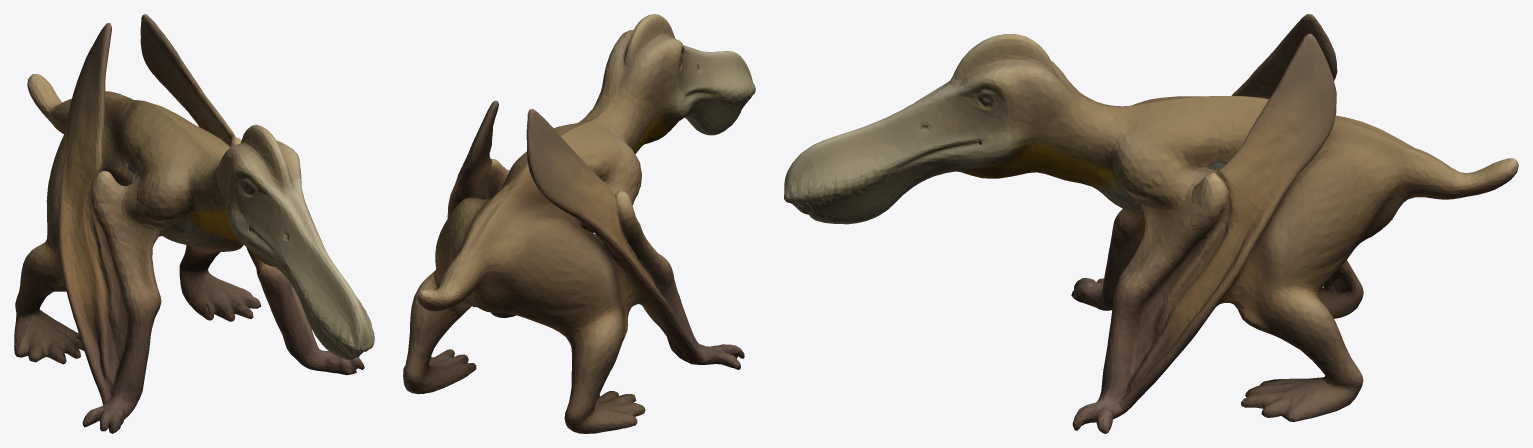
The picture shows the model from 3 angles, left to right: view 1: azimuth 30°, elevation 25°; view 2: azimuth 150°, elevation 25°; view 3: azimuth 270°, elevation 25°; orthographic projection. The views are drawn at different scales.
Visible parts, largest first — view 1: world; view 2: world; view 3: world.
Part boxes in pixels (x1,y1,x2,y2): world: (14,14,374,433); world: (403,14,755,433); world: (784,14,1518,433).
Size of the model in its own units: 0.4754 by 0.5112 by 1.
Materials: 1 (1 with a texture image).
